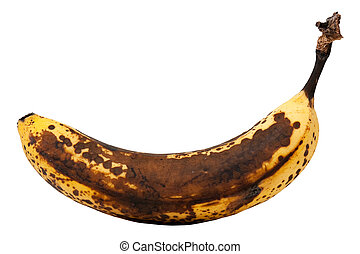looks_defective: (1, 54, 344, 254)
